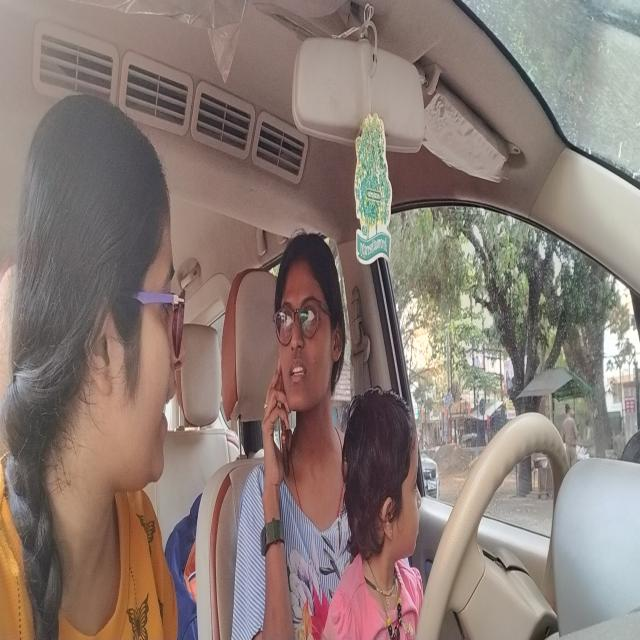child: (341, 385, 427, 577)
person: (18, 86, 183, 542), (275, 223, 346, 421)
